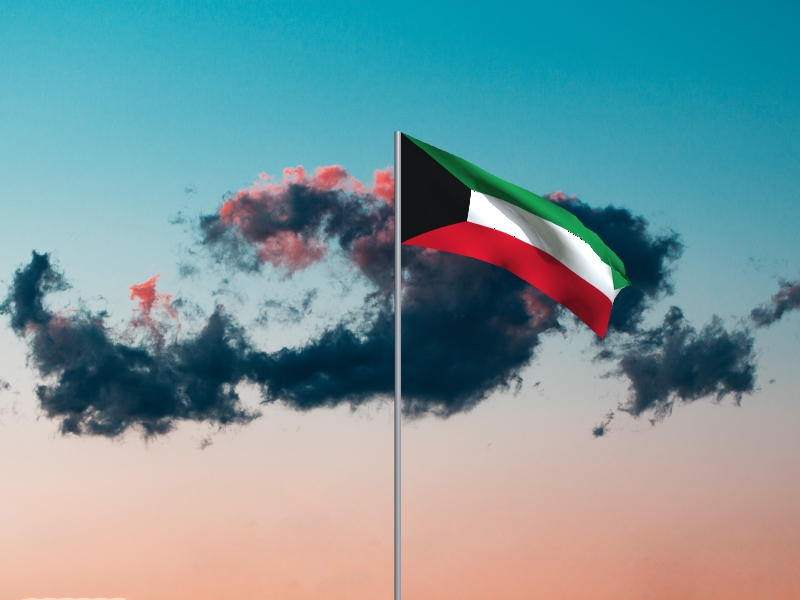kw: (402, 133, 634, 340)
